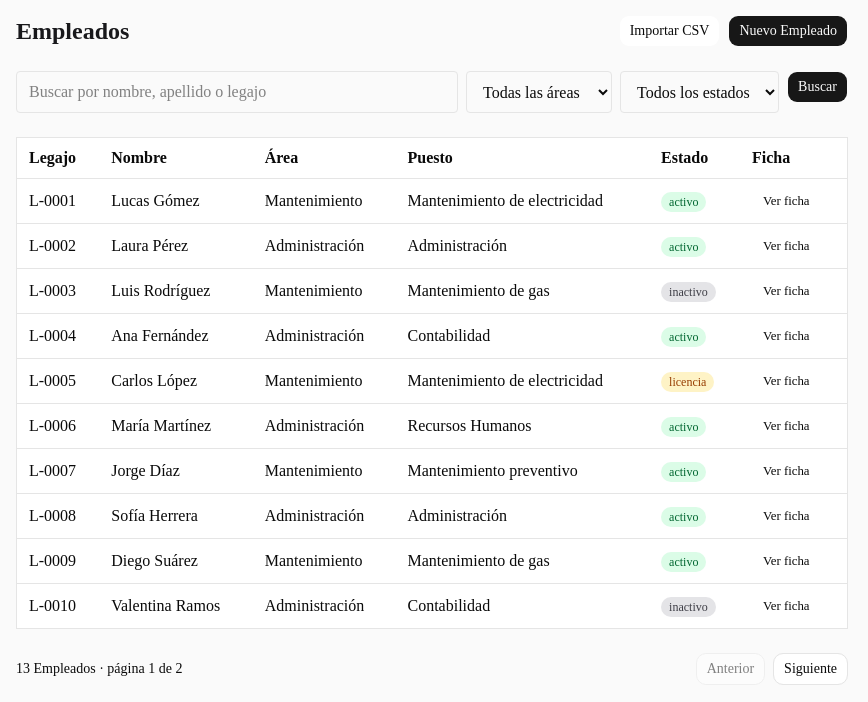
Scenario: NuevoEmpleadoPage › muestra en el listado el Empleado recién creado
Step 1. Type "visible" into the field with placeholder "Buscar por nombre, apellido o legajo" → (237, 92), box [16, 71, 458, 113]
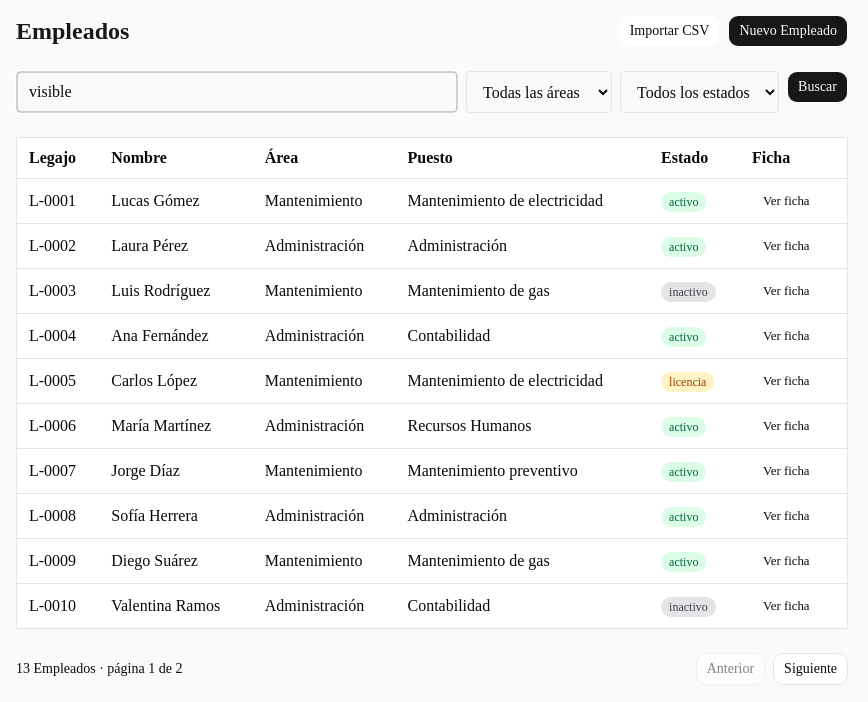
Step 2. Click the button "Buscar" → click(818, 87), box [787, 71, 848, 103]
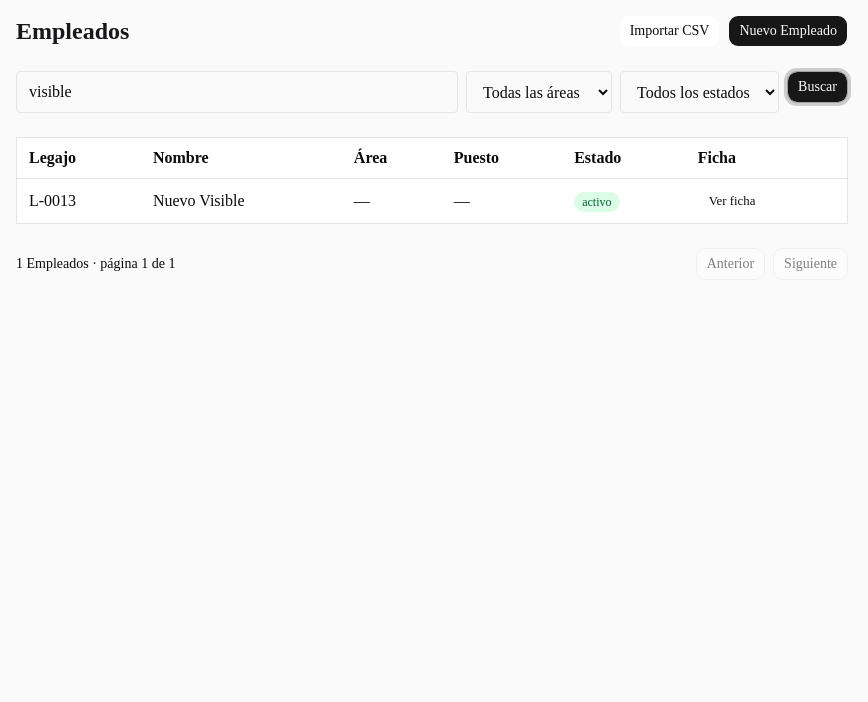
Now the text "Nuevo Visible" is shown, box [141, 178, 342, 224]
